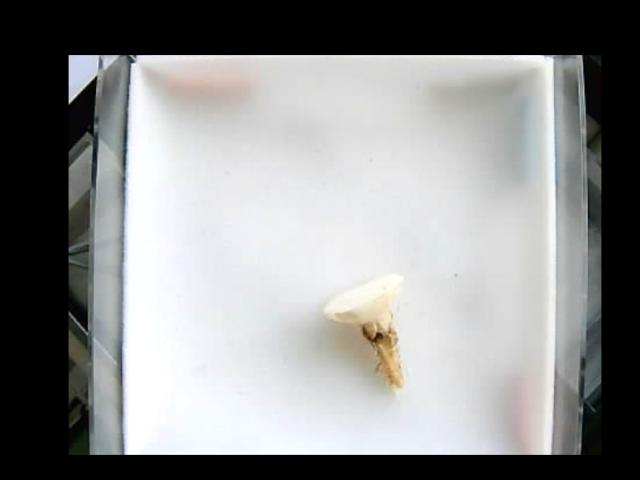Mooli: (325, 274, 409, 390)
